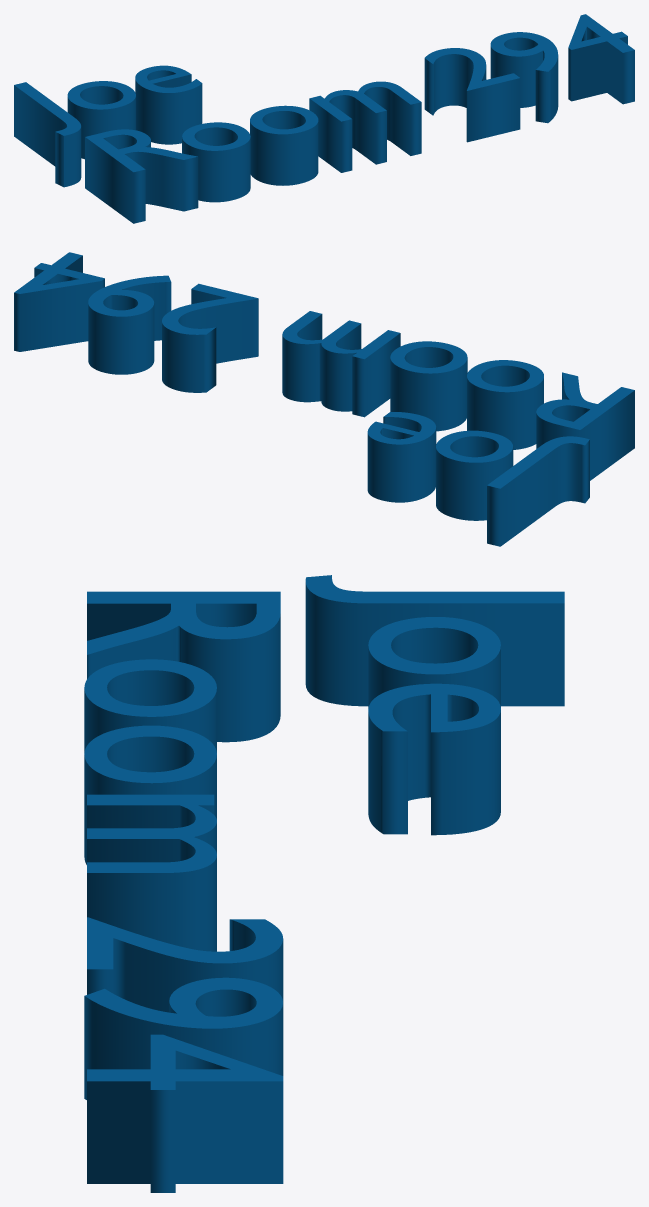
File: joe-294.gltf
3 renders of one model, top to bottom at view 1: azimuth 30°, elevation 25°; view 2: azimuth 150°, elevation 25°; view 3: azimuth 270°, elevation 25°, orthographic. The views are drawn at different scales.
Parts seen in each view (by area): view 1: Text; view 2: Text; view 3: Text.
Part boxes in pixels (bbox=[...]): Text: bbox=[14, 14, 634, 223]; Text: bbox=[14, 252, 634, 546]; Text: bbox=[84, 575, 564, 1192].
Bounding box in the file's own units: 4.29 × 0.4 × 1.69.
